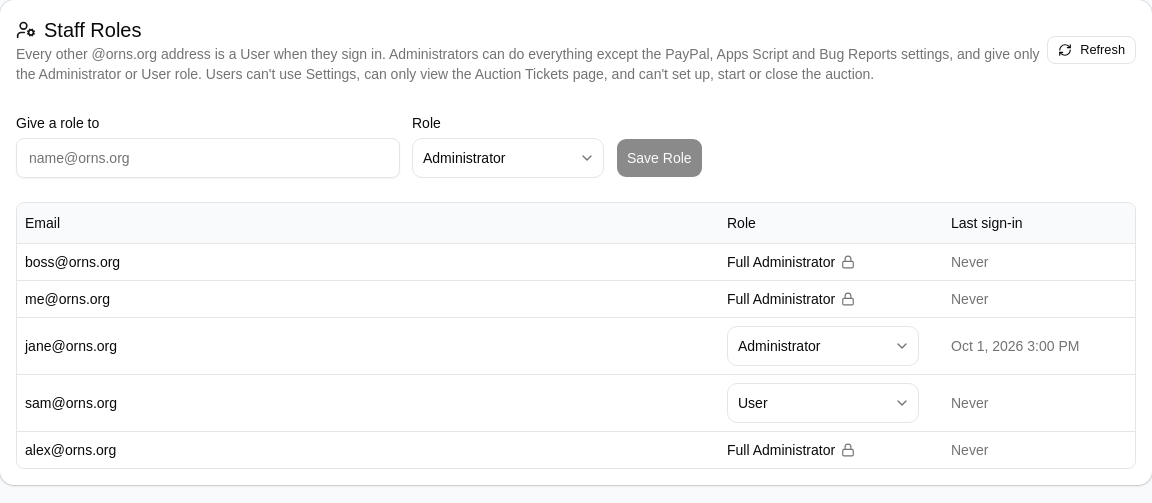
it: UsersAdmin › lets an Administrator give only Administrator or User, and locks a Full Administrator's row
This screenshot has width=1152, height=503.
Click the dropdown labelled "User ▼". click: (823, 402)
box: [727,382,919,422]
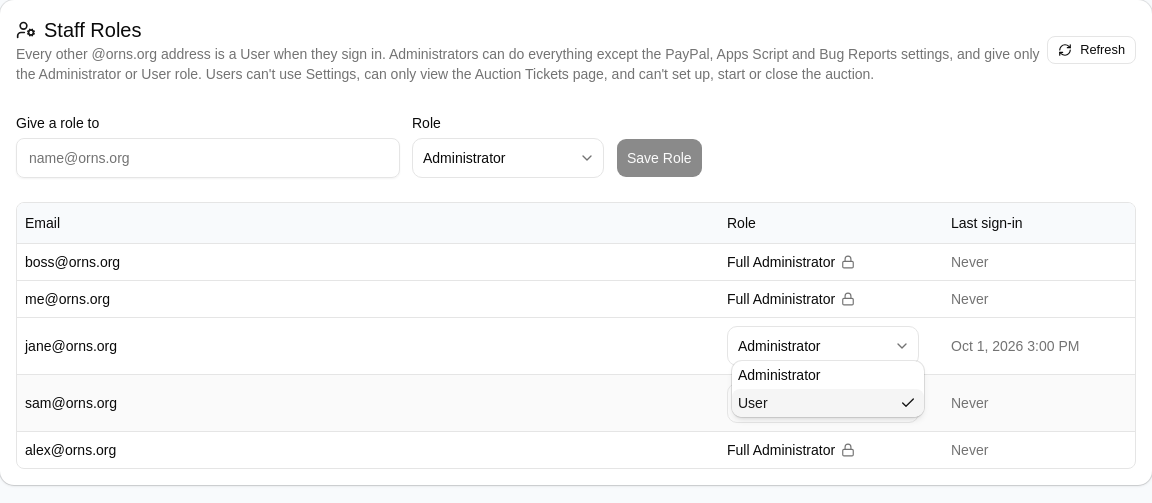
Press Escape
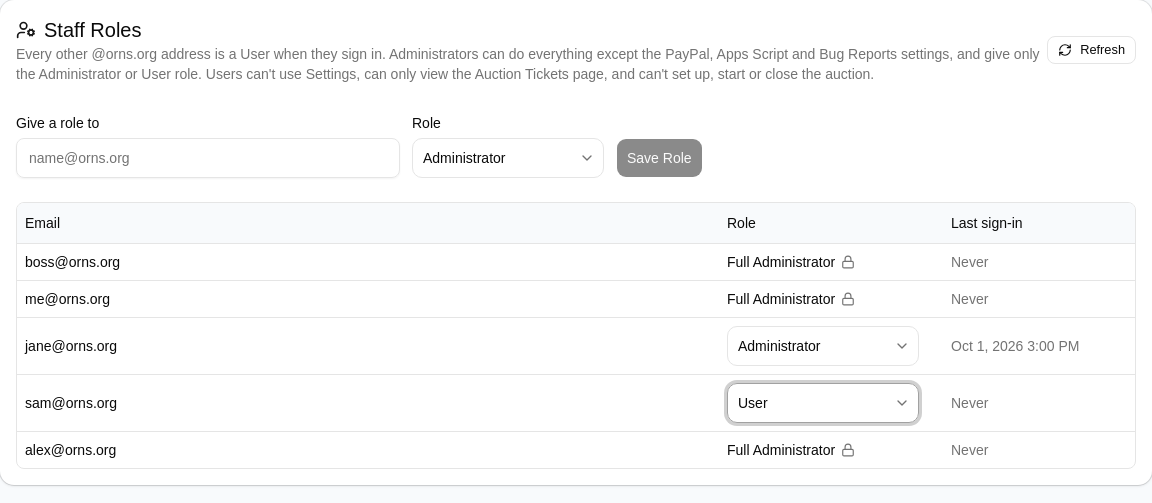
Now the option is gone
Click the dropdown named "Role". click: (508, 158)
box: [412,138,604,178]
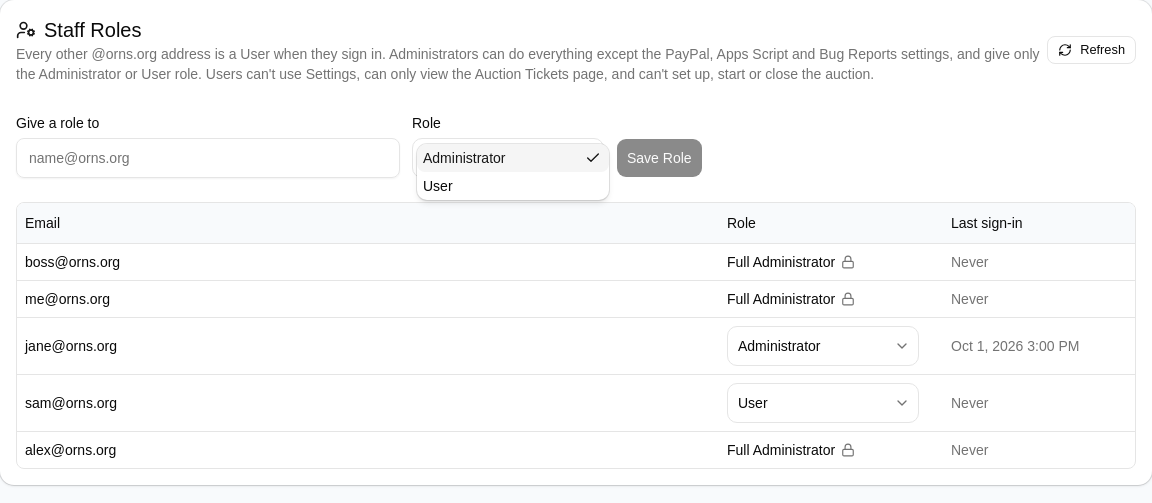
Press Escape
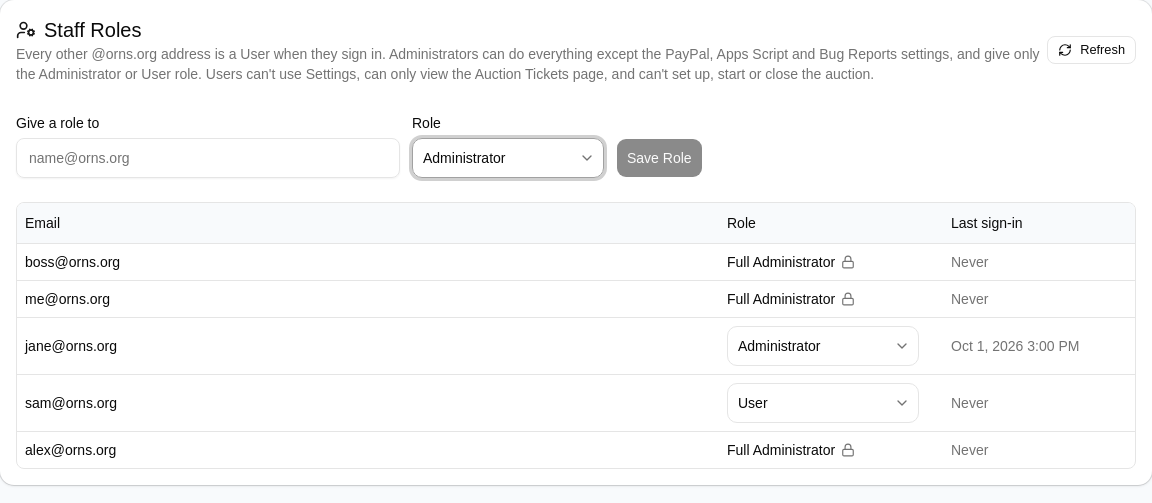
Now the option is gone
